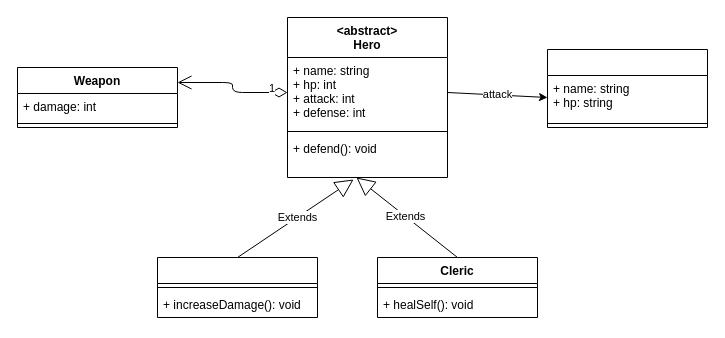
Some shapes in this 725 by 338 pixel diagram are drawn without their labels. The box of each missing label's shape, as (x1, y1, x2, y2) in pixels:
Knight: (156, 256, 318, 318)
Monster: (546, 48, 708, 128)
